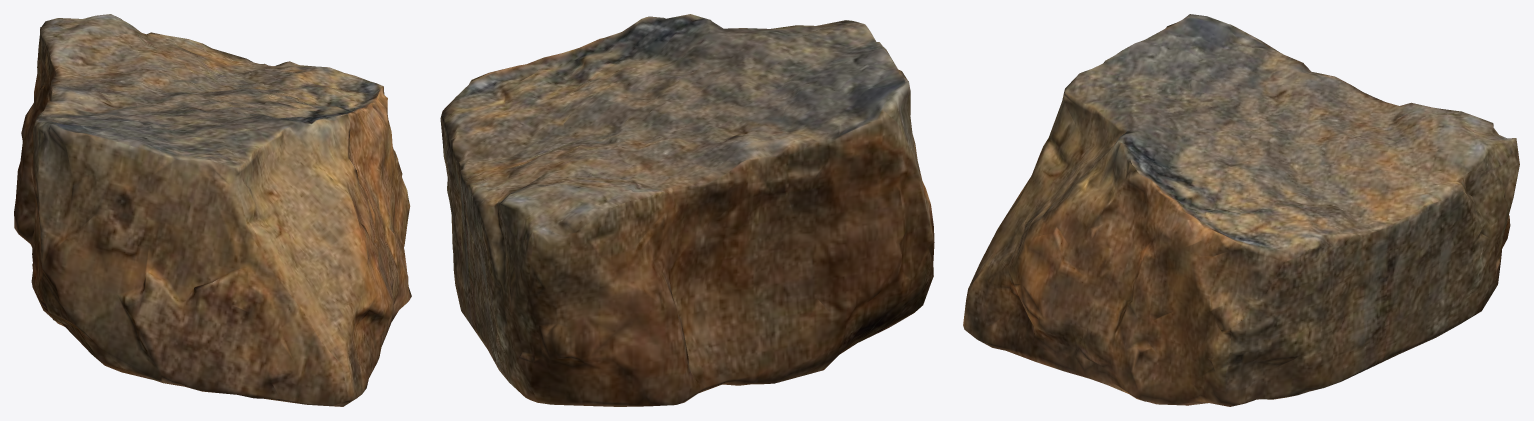
File: namaqualand_boulder_03.slim.glb
3 renders of one model, left to right at view 1: azimuth 30°, elevation 25°; view 2: azimuth 150°, elevation 25°; view 3: azimuth 270°, elevation 25°, orthographic. The views are drawn at different scales.
Bounding box in the file's own units: 2.4 × 1.47 × 3.06.
1 material, 1 textured.
